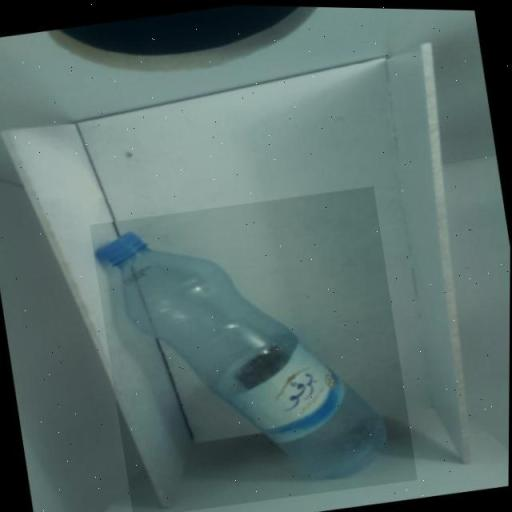plastic: (89, 179, 421, 512)
